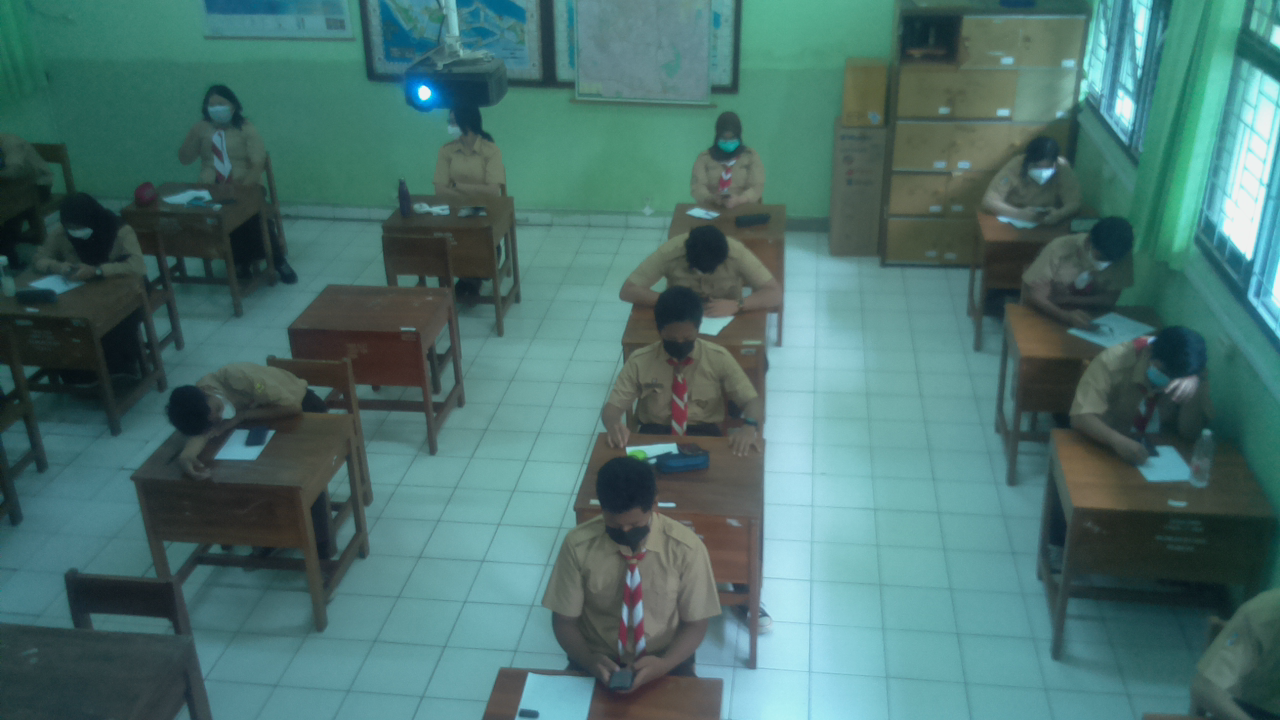Student: (559, 459, 702, 663), (627, 291, 747, 422), (1087, 327, 1208, 435), (163, 355, 318, 435), (179, 81, 267, 188), (651, 223, 757, 305), (1041, 213, 1130, 306), (41, 195, 132, 281), (693, 111, 767, 204), (995, 139, 1083, 217), (431, 111, 503, 202)
